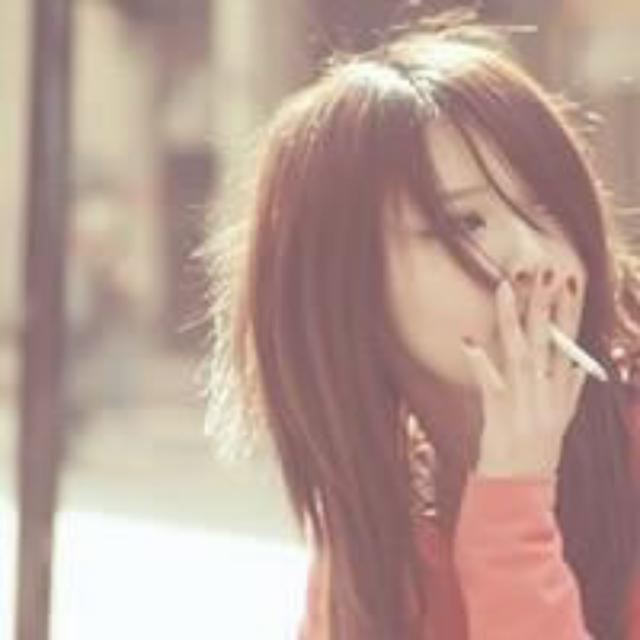Smoking: (548, 323, 614, 387)
